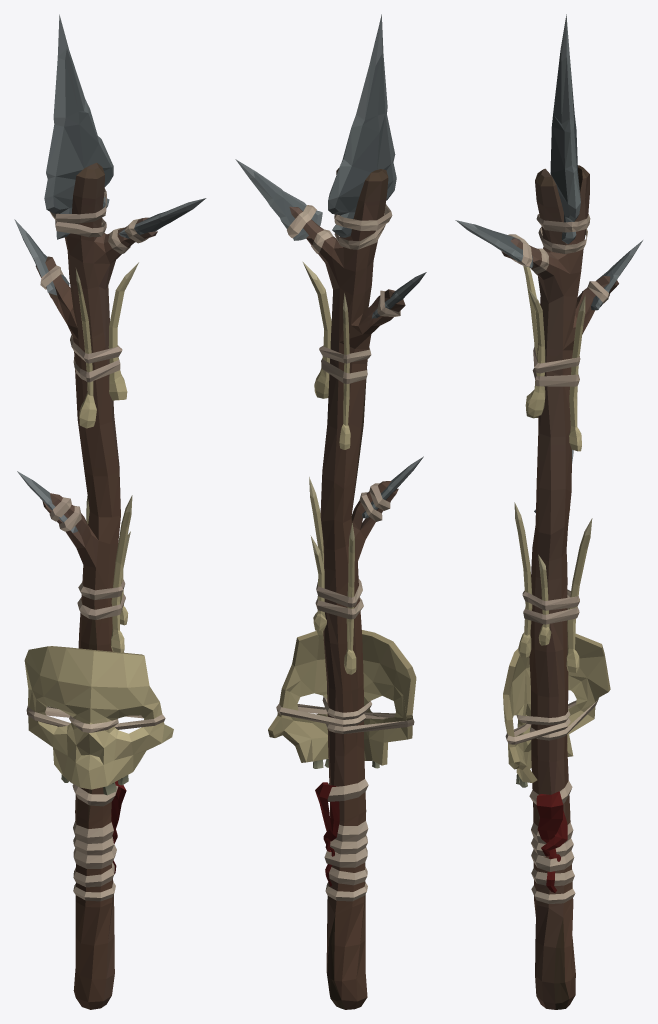
Rendered from pokeLightTribeSpear.glb.
3 views of the same model, side by side, from view 1: azimuth 30°, elevation 25°; view 2: azimuth 210°, elevation 25°; view 3: azimuth 270°, elevation 25° (orthographic).
Parts seen in each view (by area): view 1: pokeLightTribeSpear; view 2: pokeLightTribeSpear; view 3: pokeLightTribeSpear.
Part boxes in pixels (<box>): pokeLightTribeSpear: <box>14,14,206,1009</box>; pokeLightTribeSpear: <box>235,14,426,1009</box>; pokeLightTribeSpear: <box>455,14,642,1009</box>.
Size of the model in its own units: 0.1838 by 1.35 by 0.2354.
